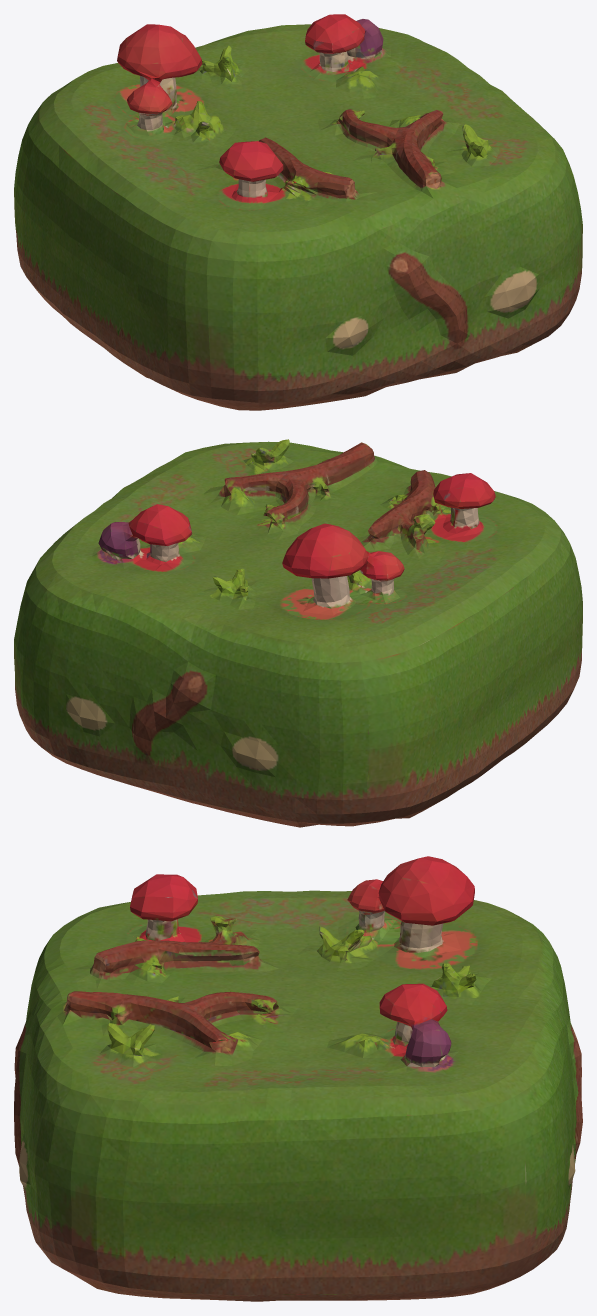
Rendered from Stage_04_Ground_Forest_000.fbx.
3 renders of one model, top to bottom at view 1: azimuth 30°, elevation 25°; view 2: azimuth 150°, elevation 25°; view 3: azimuth 270°, elevation 25°, orthographic. The views are drawn at different scales.
Visible parts, largest first — view 1: Stage_04_Ground_Forest_000; view 2: Stage_04_Ground_Forest_000; view 3: Stage_04_Ground_Forest_000.
Boxes of the visible parts, <box> form: Stage_04_Ground_Forest_000: <box>14,14,582,410</box>; Stage_04_Ground_Forest_000: <box>14,439,582,827</box>; Stage_04_Ground_Forest_000: <box>14,856,582,1301</box>.
Bounding box in the file's own units: 96.58 × 56.99 × 99.58.
